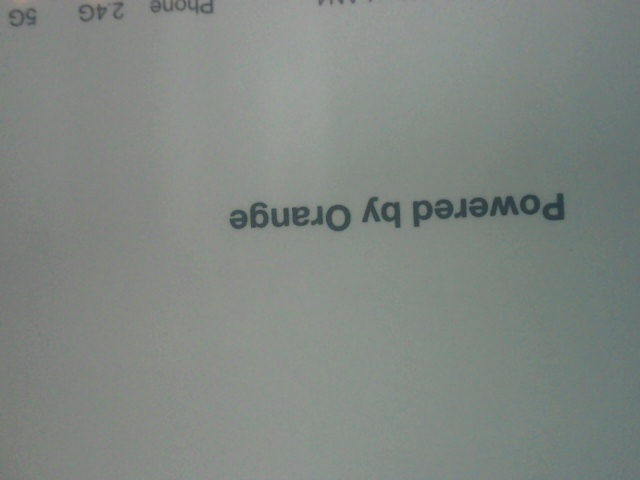AS_PowerByOrange: (211, 165, 573, 240)
